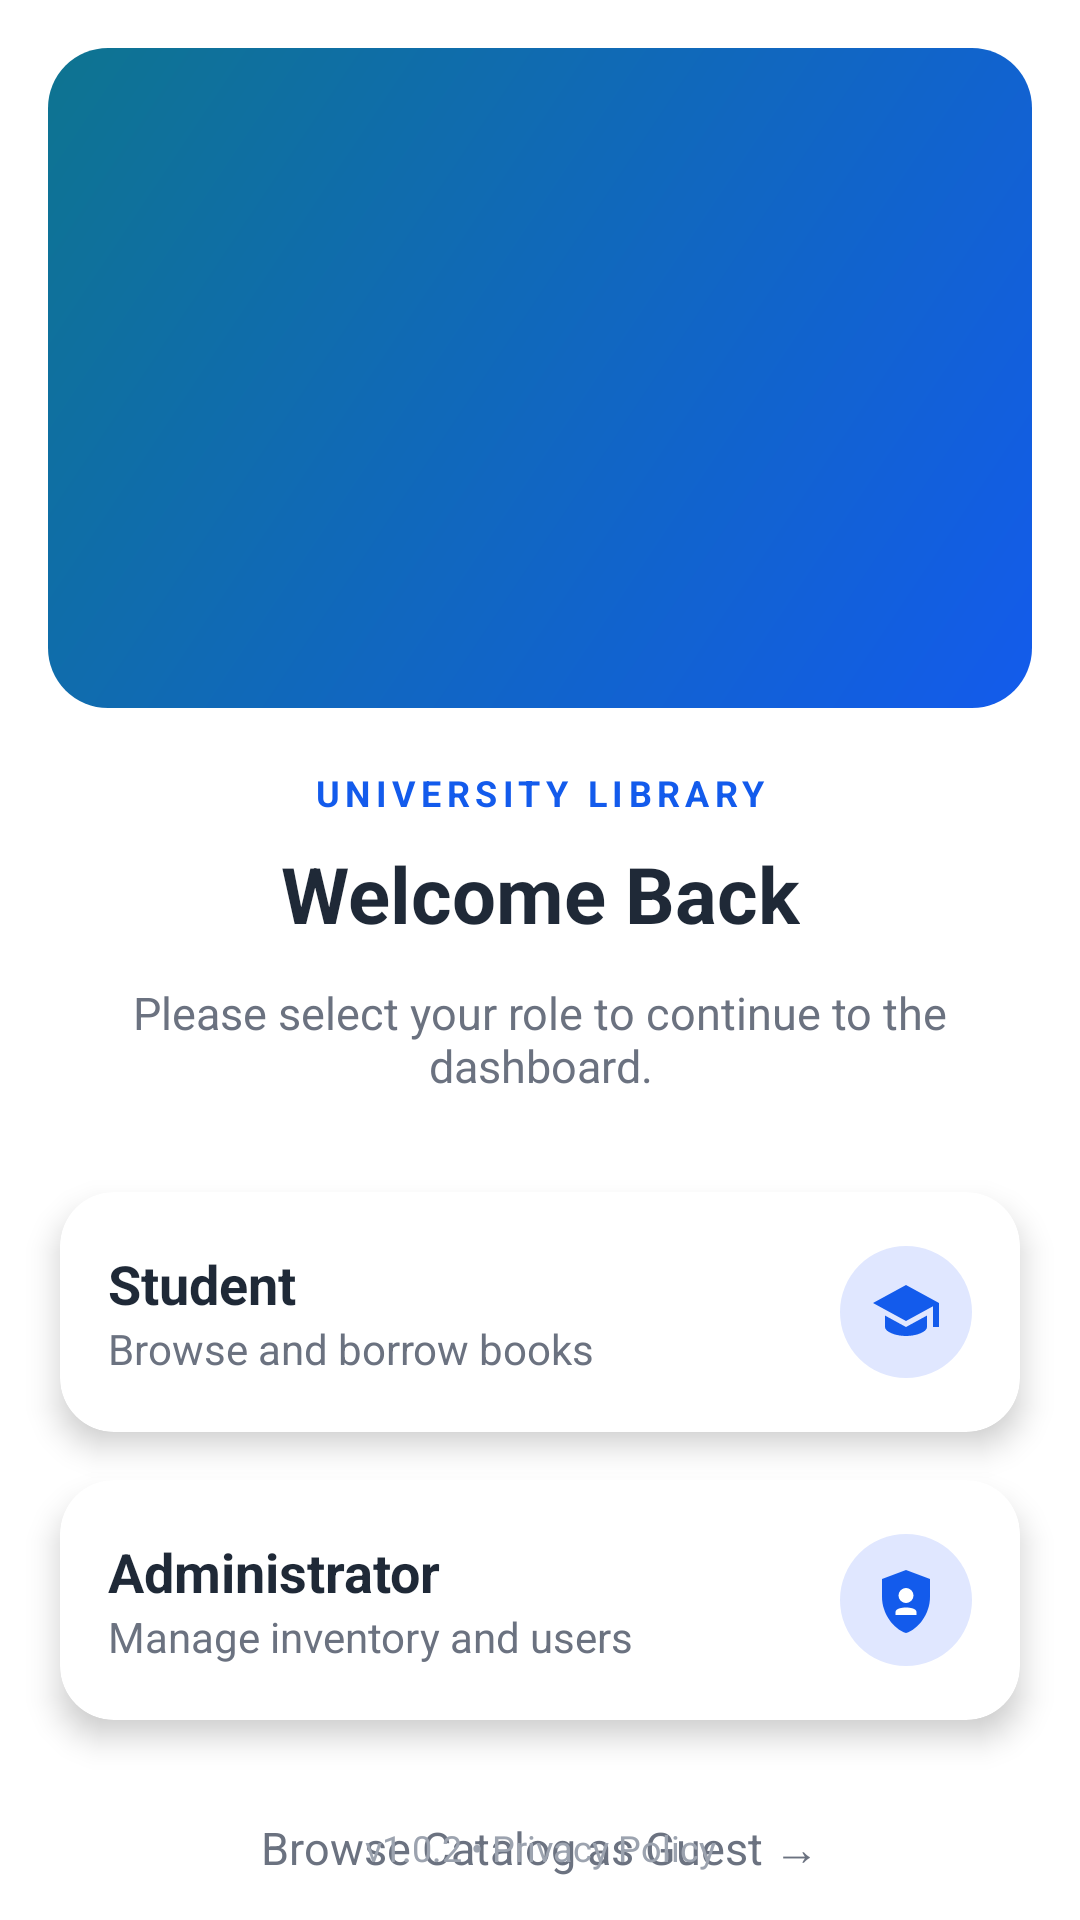

Screen size 1080px x 1920px. Icon name, then its box in pixels as (x1, y1, x2, y2):
admin: (840, 1534, 972, 1666)
student: (840, 1246, 972, 1378)
